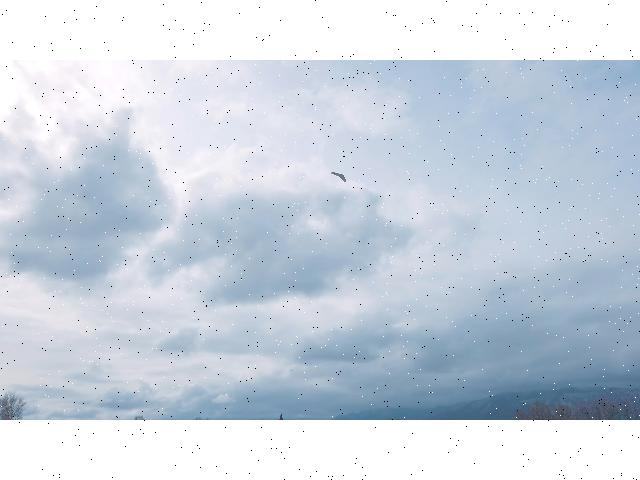Anti-Drone: (329, 170, 349, 184)
